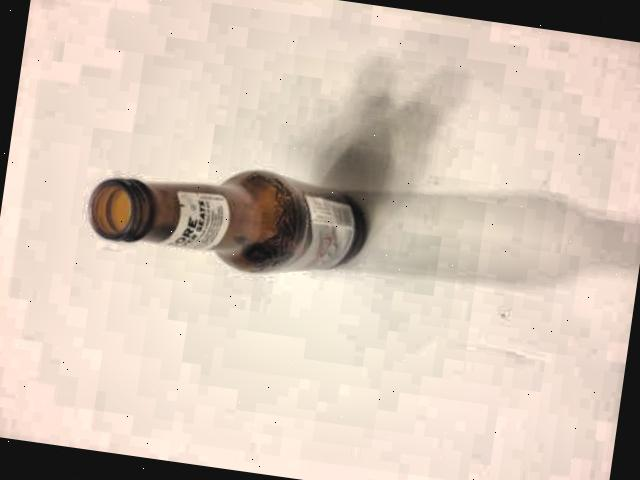Bottles: (49, 124, 402, 327)
